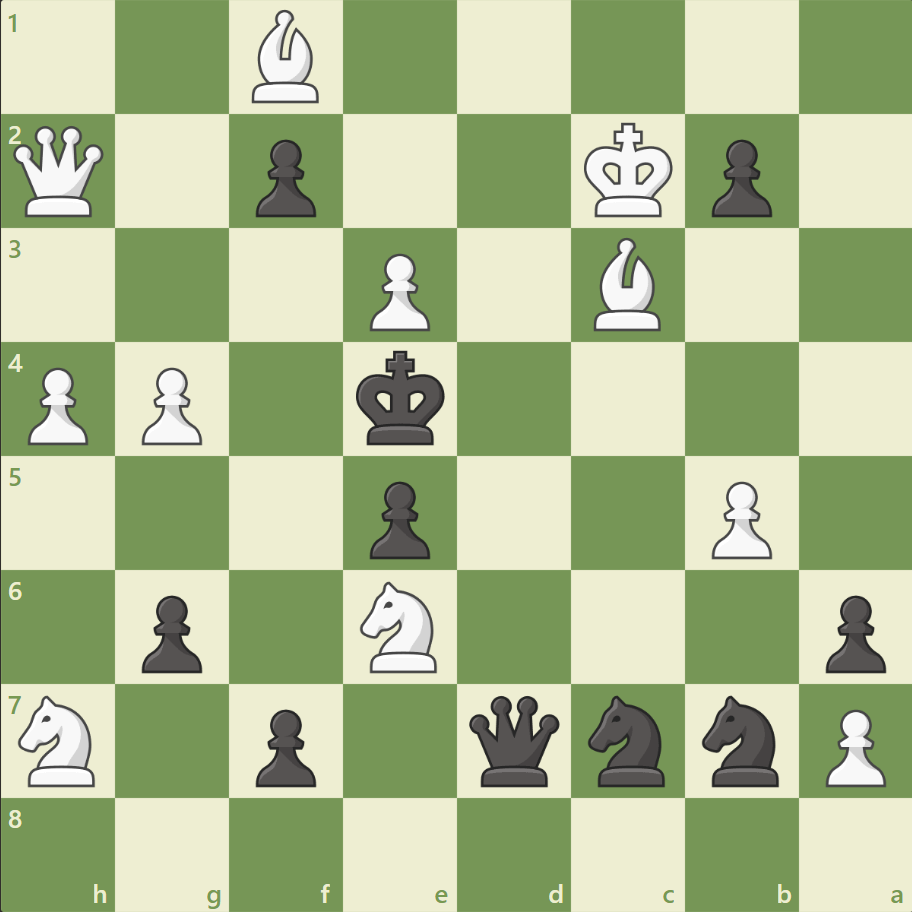B: (585, 233, 669, 336), (244, 6, 328, 109)
K: (579, 117, 679, 225)
N: (351, 575, 449, 677), (11, 688, 108, 791)
P: (701, 473, 776, 564), (133, 359, 208, 450), (20, 359, 95, 450), (815, 700, 889, 791), (361, 246, 435, 337)
Q: (10, 122, 109, 222)
k: (351, 344, 451, 452)
n: (692, 688, 789, 791), (579, 688, 676, 791)
p: (247, 700, 322, 791), (133, 586, 208, 677), (701, 132, 776, 223), (247, 132, 322, 223), (815, 586, 889, 677), (361, 473, 435, 564)
q: (464, 690, 563, 789)
